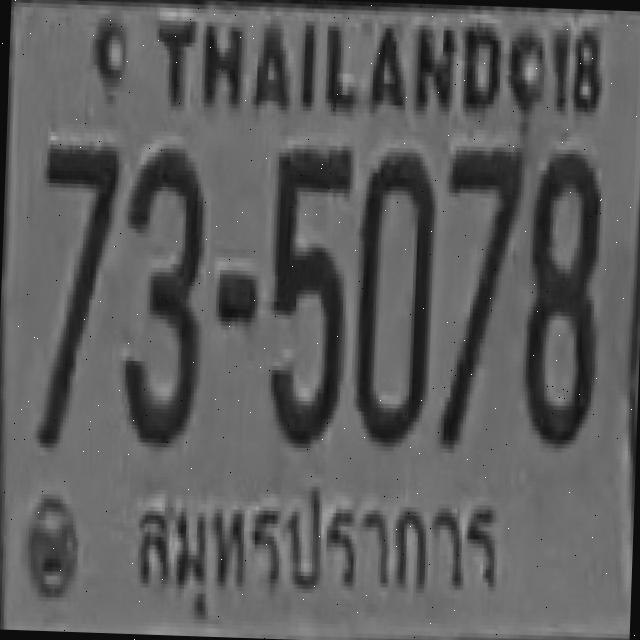0: (350, 146, 435, 444)
3: (118, 142, 205, 444)
5: (266, 143, 351, 444)
7: (33, 140, 118, 445), (436, 145, 520, 446), (442, 145, 520, 365)
8: (518, 150, 598, 442)
SamutPrakan: (108, 466, 508, 632)
